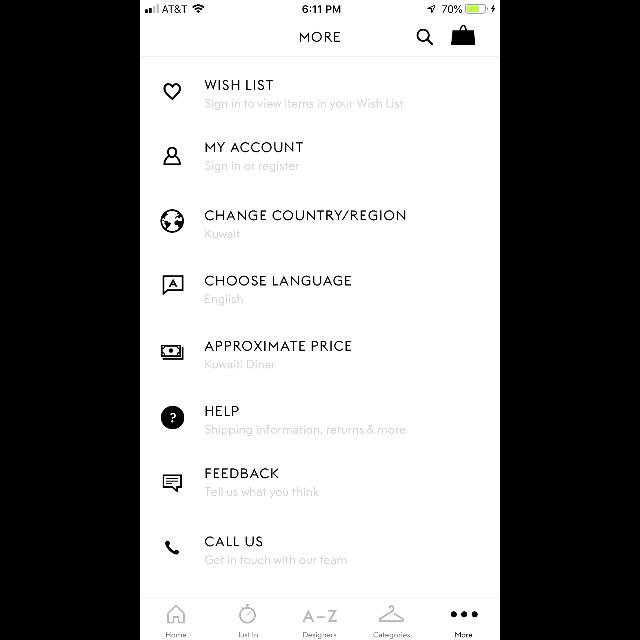icon: (161, 406, 185, 430), (160, 209, 184, 233), (451, 24, 475, 46), (162, 275, 184, 295), (302, 610, 338, 622), (378, 606, 404, 622), (160, 344, 183, 360), (162, 475, 182, 493), (168, 604, 185, 624), (163, 146, 180, 166), (416, 28, 434, 46), (240, 604, 256, 624), (163, 84, 180, 100), (165, 541, 179, 555), (450, 611, 478, 617)
text: (205, 424, 405, 436), (205, 99, 403, 111), (205, 210, 405, 220), (205, 341, 352, 351), (205, 276, 351, 286), (205, 487, 319, 499), (205, 142, 302, 154), (205, 556, 347, 564), (205, 161, 299, 173), (206, 468, 278, 478), (205, 80, 273, 90), (205, 359, 275, 368), (205, 536, 262, 546), (205, 294, 242, 306), (300, 32, 340, 42), (206, 406, 238, 416), (206, 230, 240, 238), (304, 632, 336, 640), (374, 632, 411, 638), (167, 632, 187, 638), (238, 632, 258, 638), (456, 632, 472, 638)
uppertaskbar: (140, 0, 500, 14)
